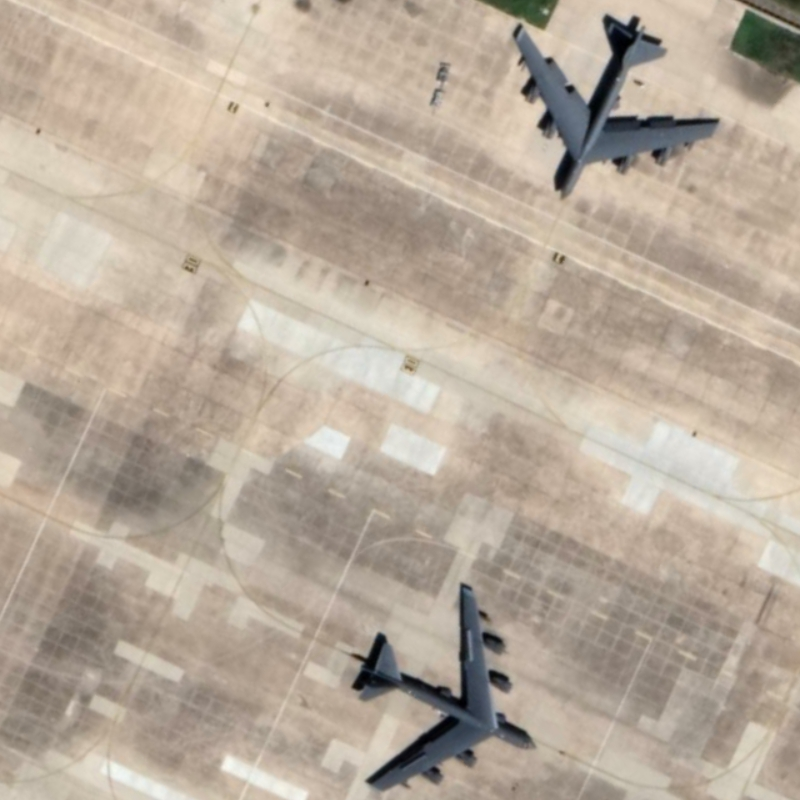A8: (343, 581, 538, 800), (500, 12, 721, 202)
